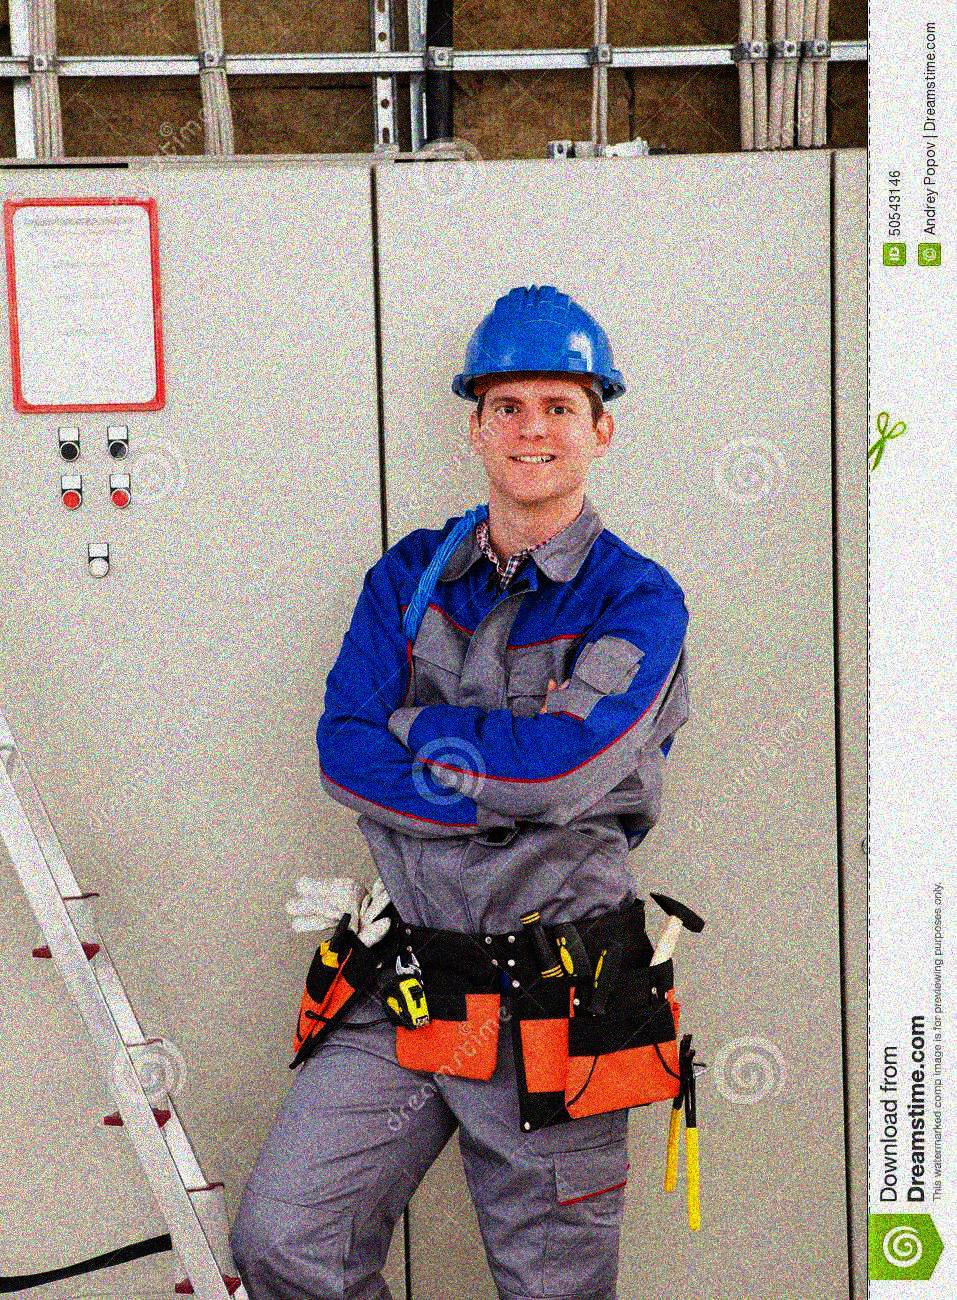helmet: (446, 284, 627, 510)
